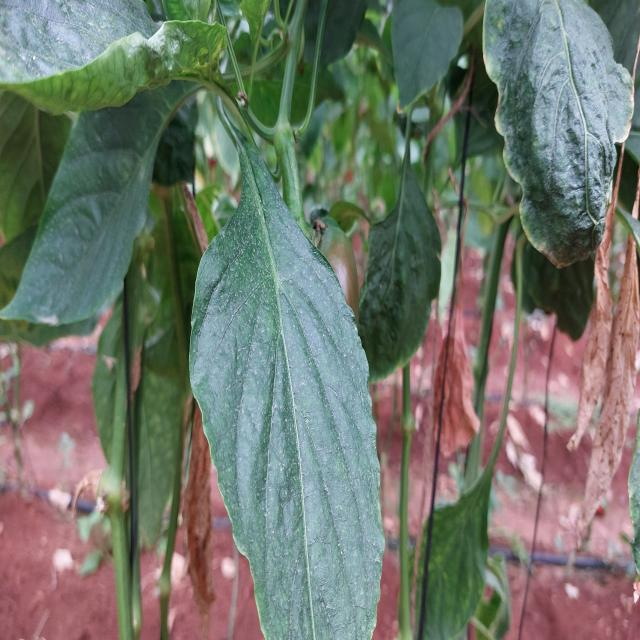Green--Not-ready-to-harvest: (125, 224, 208, 398)
